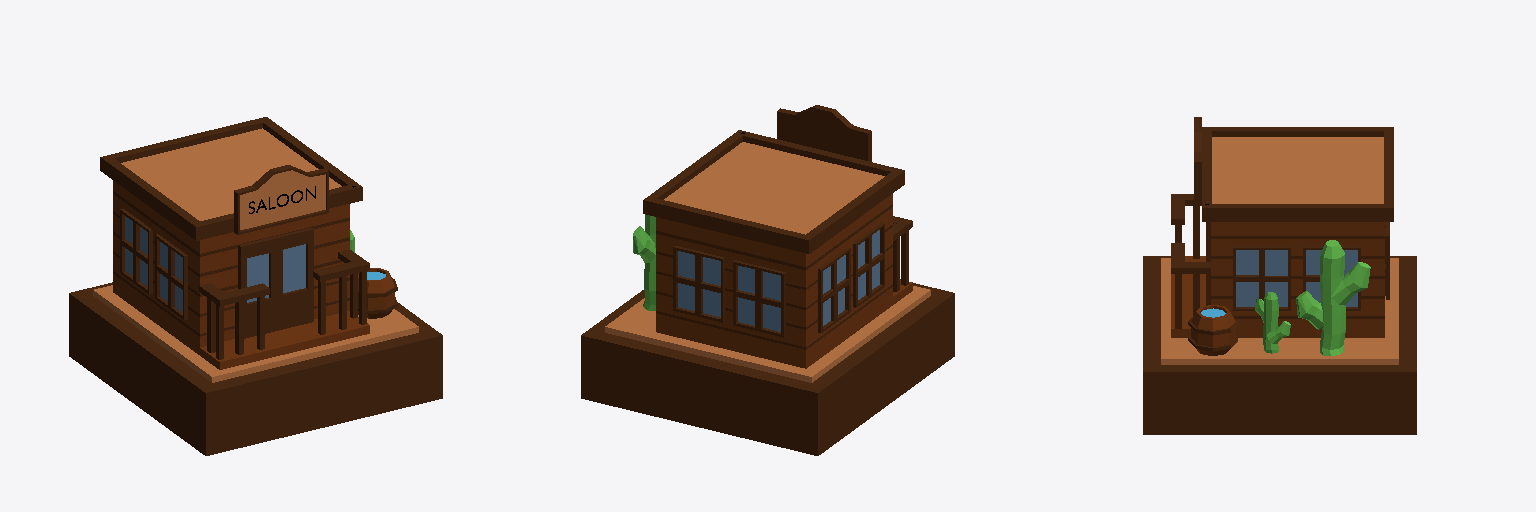
3 views of the same model, side by side, from view 1: azimuth 30°, elevation 25°; view 2: azimuth 150°, elevation 25°; view 3: azimuth 270°, elevation 25° (orthographic).
Visible parts, largest first — view 1: Cube; view 2: Cube; view 3: Cube.
Part boxes in pixels (bbox=[...]): Cube: bbox=[69, 117, 442, 455]; Cube: bbox=[581, 105, 954, 455]; Cube: bbox=[1143, 117, 1416, 434].
Bounding box in the file's own units: 11.13 × 10.87 × 11.13.
Materials: 1 (1 with a texture image).